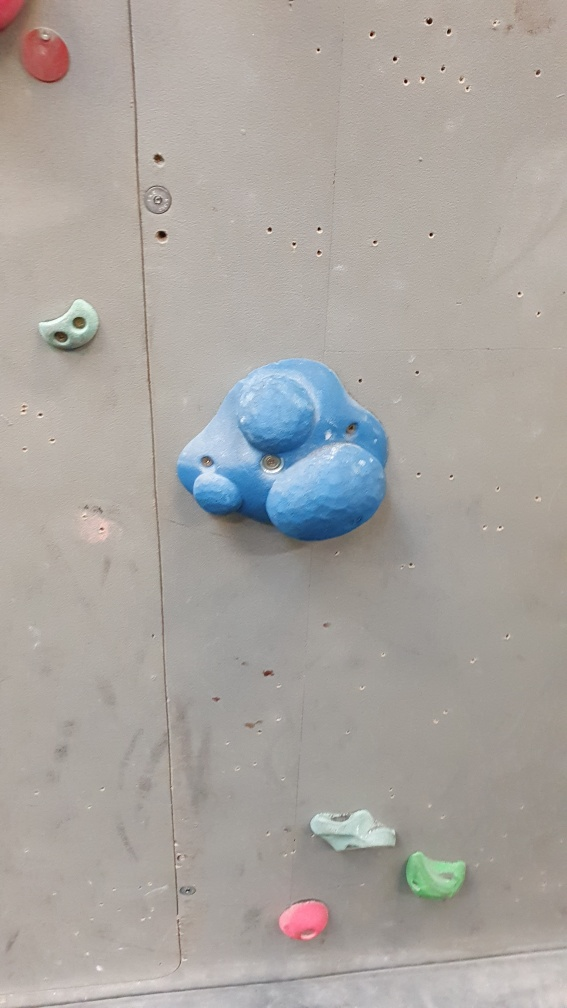Sloper: (170, 354, 392, 545)
